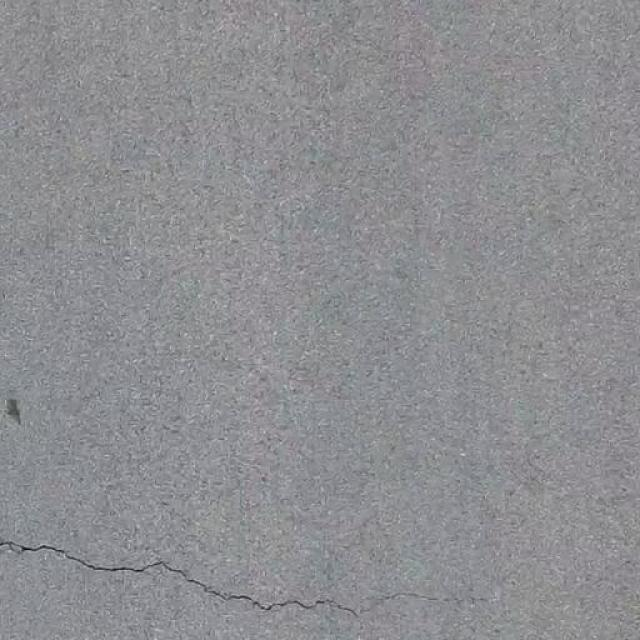Crack: (0, 518, 461, 622)
